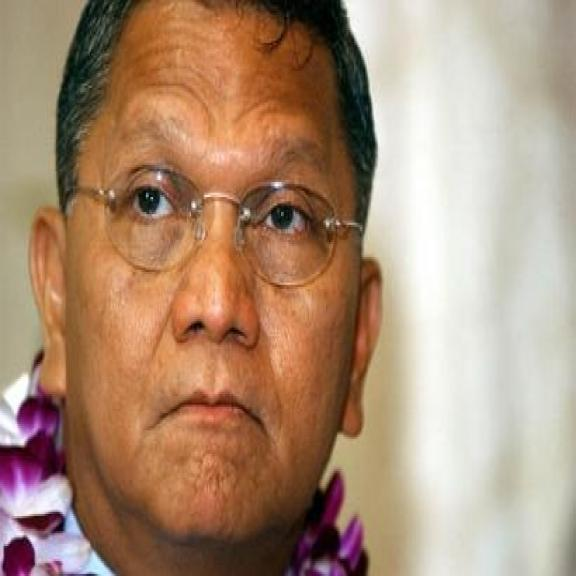face: (26, 8, 393, 546)
